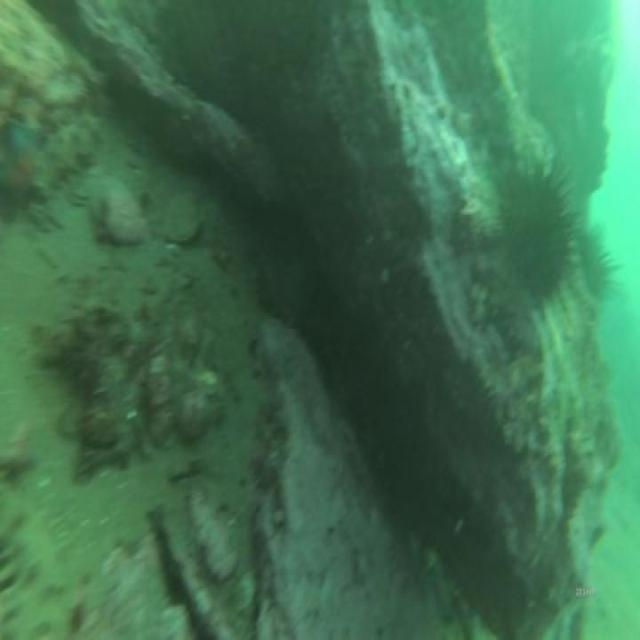echinus: (493, 133, 577, 313), (580, 216, 626, 314)
starfish: (1, 114, 51, 200)
